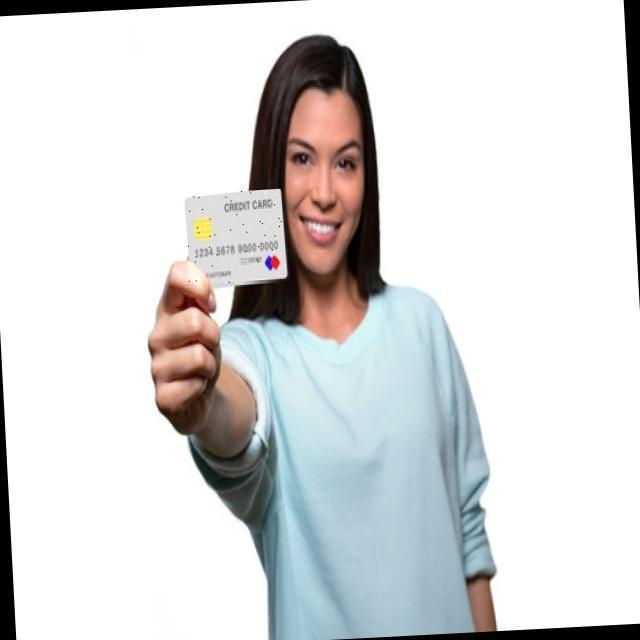payment_card: (183, 187, 288, 290)
